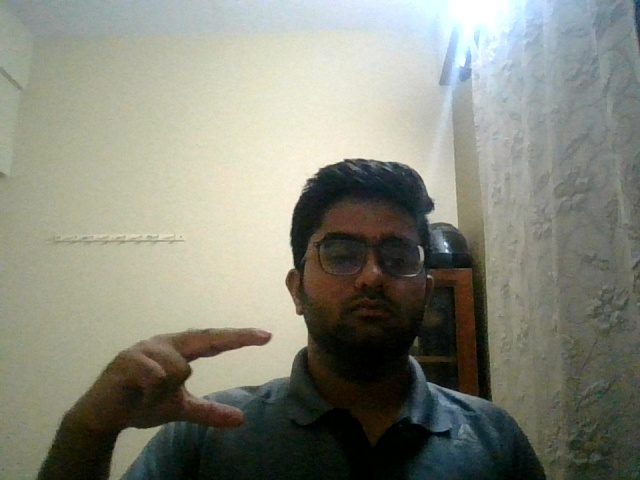No: (60, 304, 274, 463)
